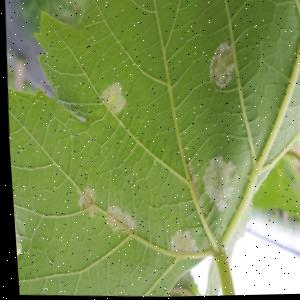Folha: (0, 0, 300, 300)
Fungo: (197, 156, 238, 215), (205, 42, 236, 92), (182, 162, 205, 219), (101, 205, 134, 236), (97, 82, 126, 117), (165, 229, 195, 258), (72, 187, 97, 220), (12, 223, 19, 266)
